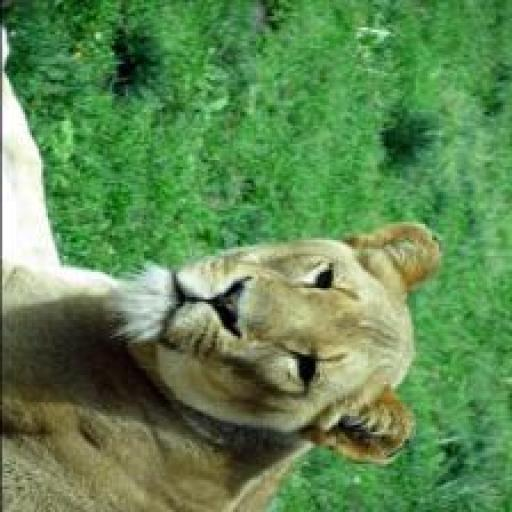lion: (0, 0, 458, 509)
